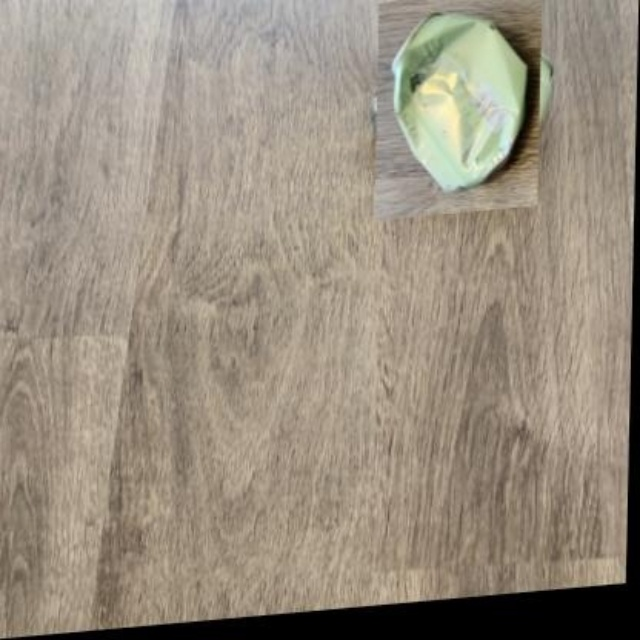trash: (394, 14, 526, 189)
